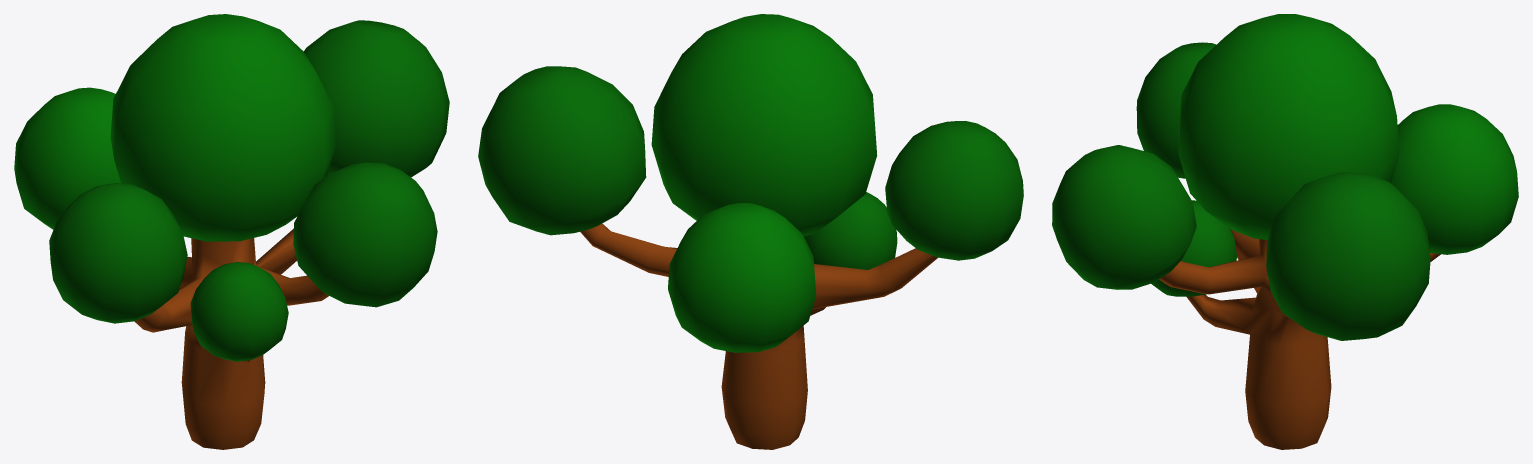
Rendered from SM_Tree_P_5.fbx.
The picture shows the model from 3 angles, left to right: view 1: azimuth 30°, elevation 25°; view 2: azimuth 150°, elevation 25°; view 3: azimuth 270°, elevation 25°; orthographic projection.
Parts seen in each view (by area): view 1: SM_Tree_P_5; view 2: SM_Tree_P_5; view 3: SM_Tree_P_5.
Boxes of the visible parts, box(x1,y1,x2,y2) form: SM_Tree_P_5: box(14, 14, 449, 449); SM_Tree_P_5: box(478, 14, 1023, 449); SM_Tree_P_5: box(1052, 14, 1518, 449).
Bounding box in the file's own units: 649 × 558 × 580.
